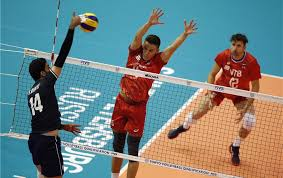ball: (77, 11, 99, 33)
